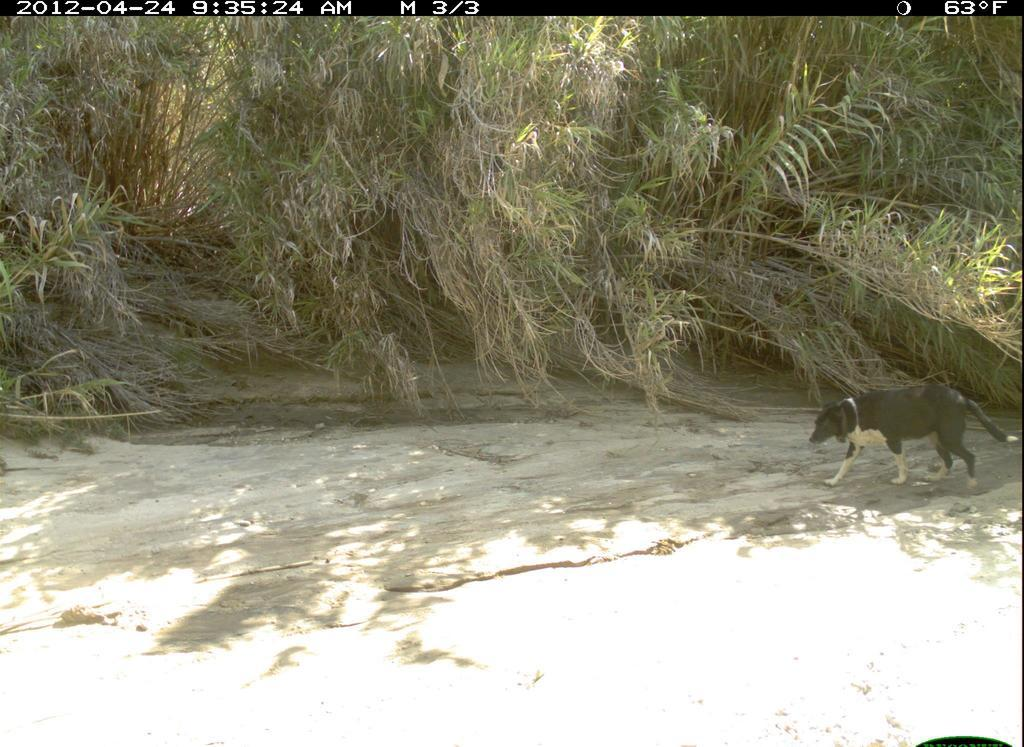dog: (802, 379, 1022, 534)
